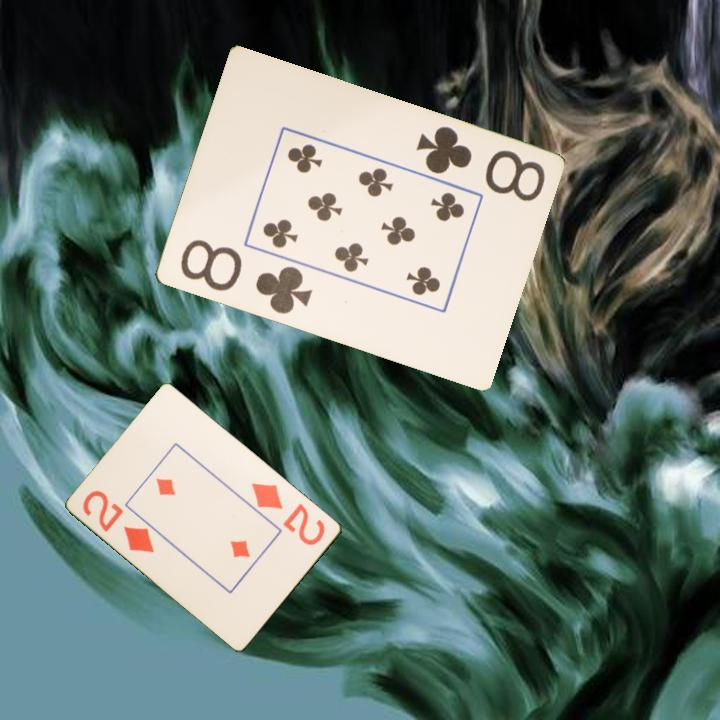2d: (248, 479, 329, 548), (79, 487, 158, 556)
8c: (176, 236, 315, 318), (412, 123, 548, 205)
